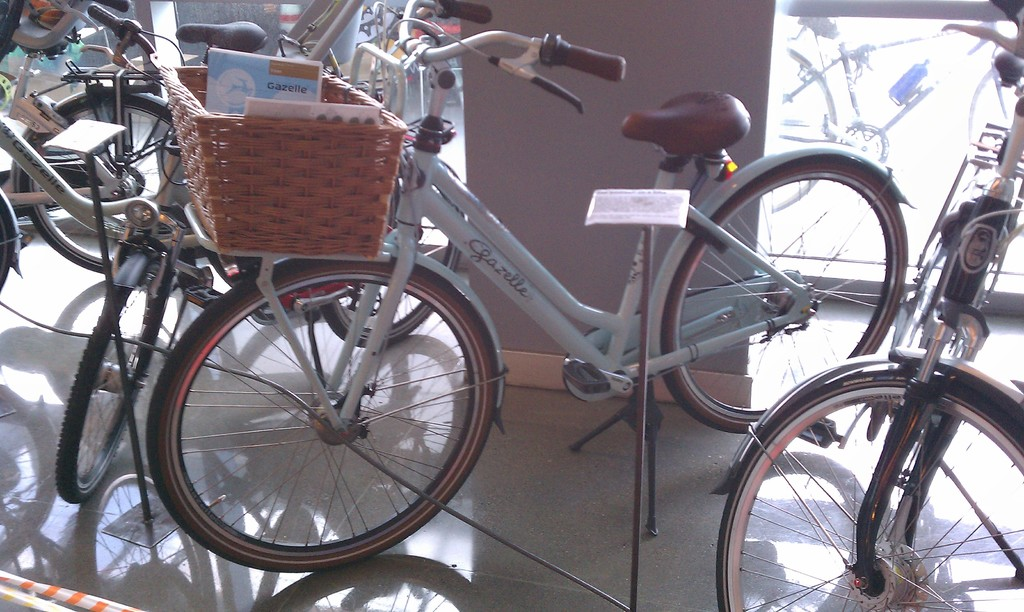Bicycle: (142, 0, 915, 573), (49, 0, 465, 505), (673, 161, 1024, 610), (0, 0, 401, 325), (0, 0, 200, 281), (770, 14, 1023, 217)
